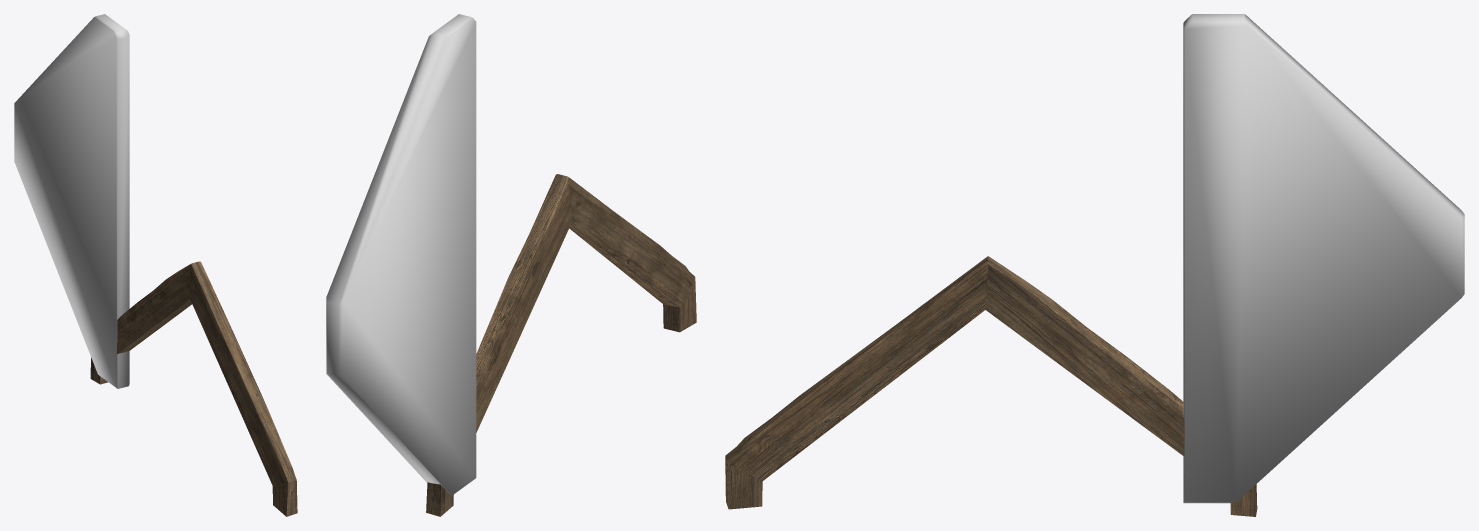
Rendered from SM_Roof_Small_JoinPiece_A.fbx.
The picture shows the model from 3 angles, left to right: view 1: azimuth 30°, elevation 25°; view 2: azimuth 150°, elevation 25°; view 3: azimuth 270°, elevation 25°; orthographic projection. The views are drawn at different scales.
Parts seen in each view (by area): view 1: SM_Roof_Small_JoinPiece_A_ConvexHulls, SM_Roof_Small_JoinPiece_A; view 2: SM_Roof_Small_JoinPiece_A_ConvexHulls, SM_Roof_Small_JoinPiece_A; view 3: SM_Roof_Small_JoinPiece_A_ConvexHulls, SM_Roof_Small_JoinPiece_A.
Part boxes in pixels (<box>): SM_Roof_Small_JoinPiece_A_ConvexHulls: <box>14,14,129,388</box>; SM_Roof_Small_JoinPiece_A: <box>90,261,297,516</box>; SM_Roof_Small_JoinPiece_A_ConvexHulls: <box>326,14,476,495</box>; SM_Roof_Small_JoinPiece_A: <box>426,174,696,516</box>; SM_Roof_Small_JoinPiece_A_ConvexHulls: <box>1183,14,1464,503</box>; SM_Roof_Small_JoinPiece_A: <box>725,256,1257,516</box>.
Bounding box in the file's own units: 0.255 × 6.9 × 9.33.
